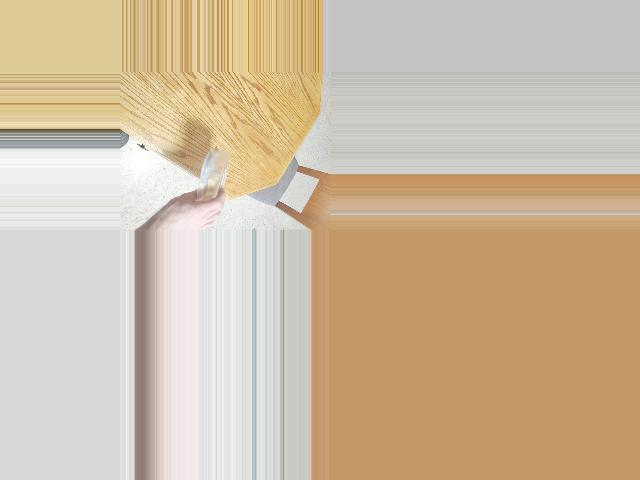cheese: (187, 154, 230, 200)
